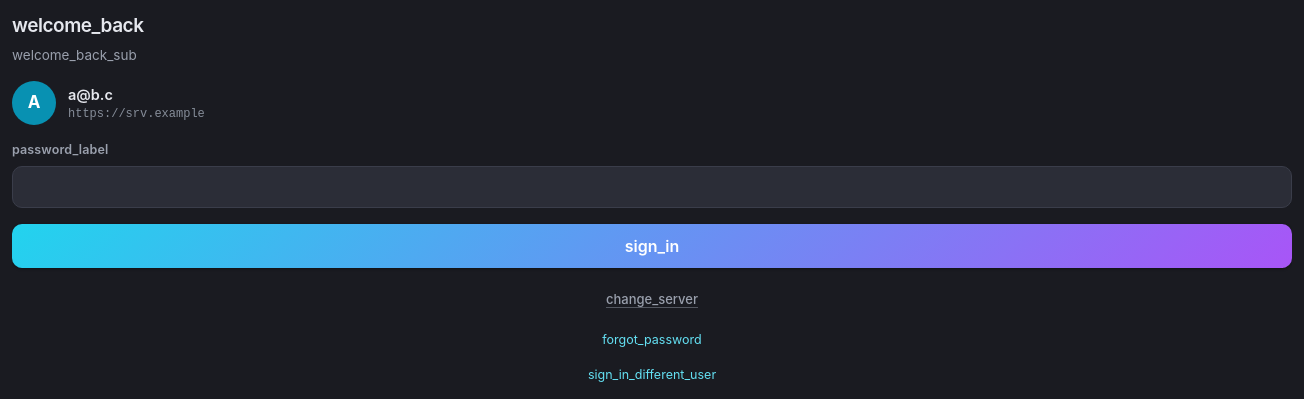
Test case: AddIdentityWizard › shows change-server on a locked wizard and unlocks the server step
Expected: the password field with test id "wizard-password-input" is shown, [12,166,1292,208]
Click the button with test id "wizard-change-server".
click(652, 299)  # box [12,284,1292,315]
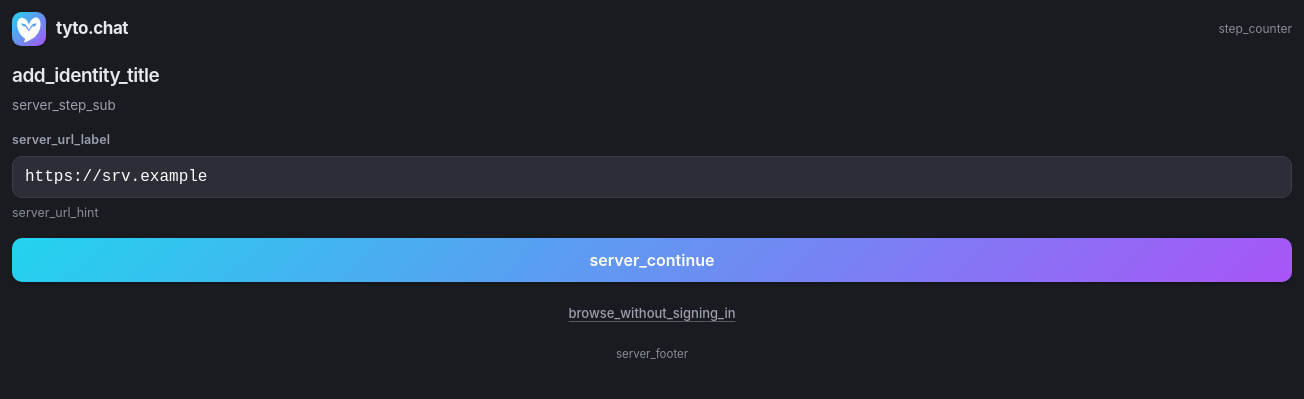
Now the field with test id "wizard-server-input" holds "https://srv.example", box [12,156,1292,198]
Now the field with test id "wizard-server-input" is enabled, box [12,156,1292,198]
